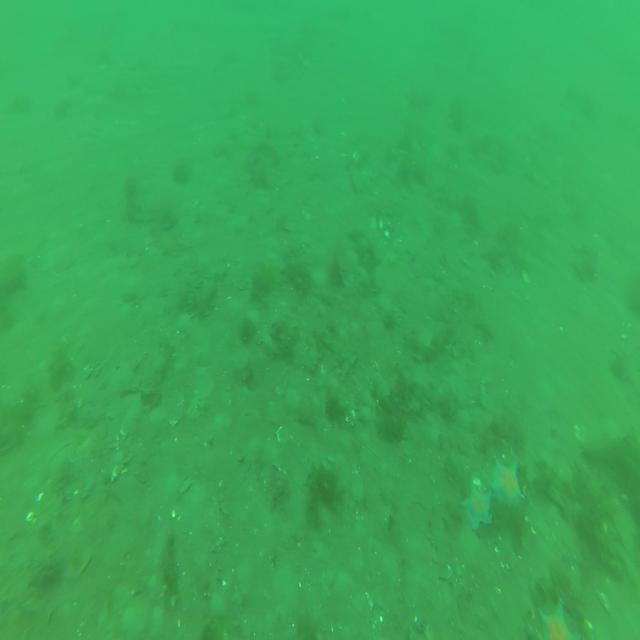starfish: (490, 457, 522, 506), (461, 484, 492, 530), (538, 601, 573, 640)
